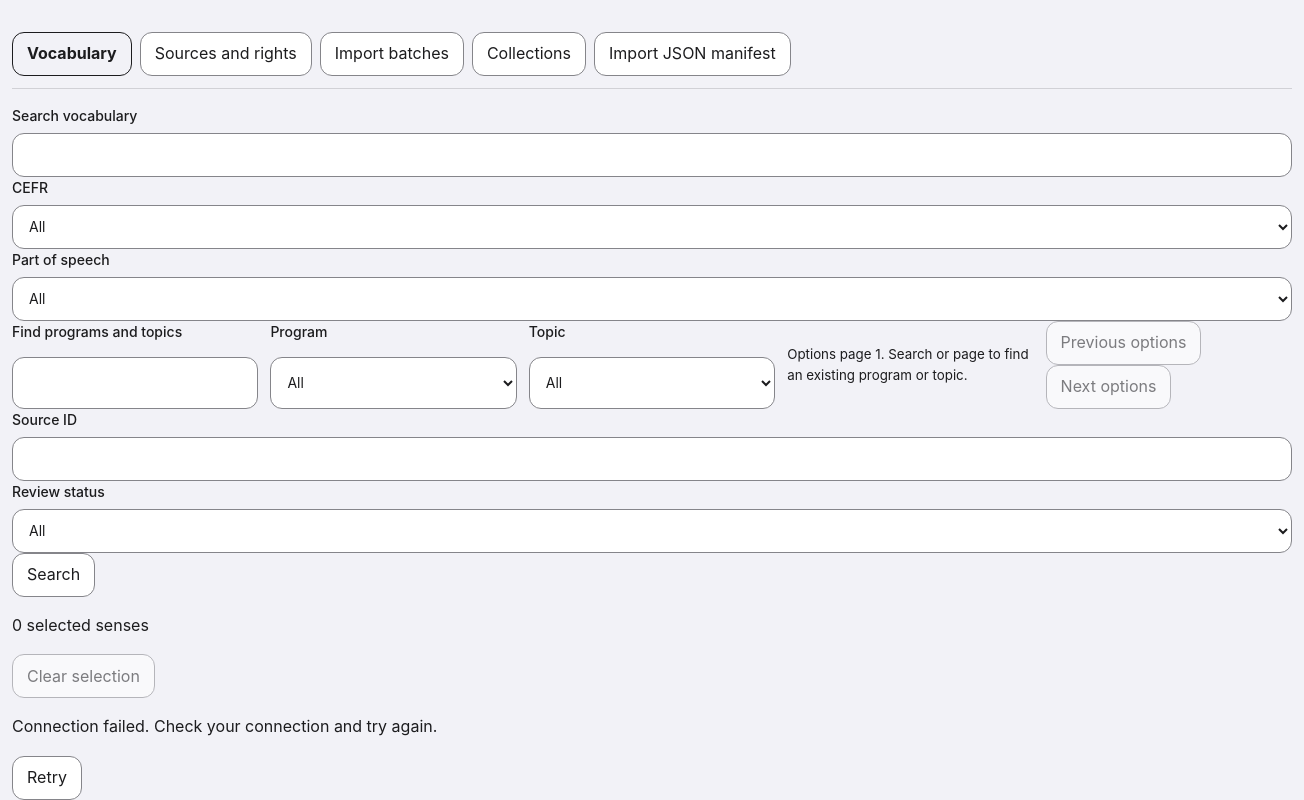
vocabulary workspace › recovers a failed list through retry
(page scrolled)
Expected: the message "Connection failed. Check your connection and try again." is shown, [12,716,437,736]
Click the button "Retry" at (47, 778), box [12,756,82,799]
(page scrolled)
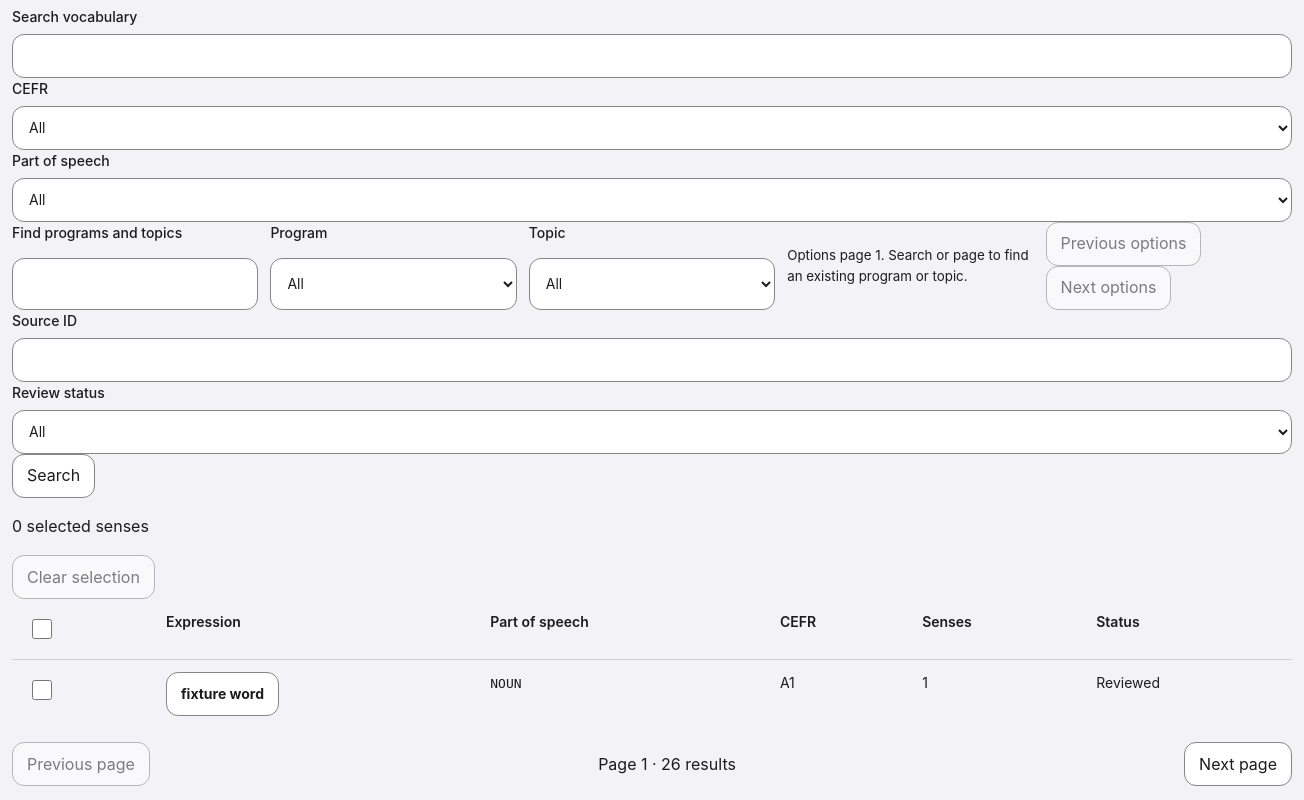
Now the button "fixture word" is shown, box [166,672,279,716]
